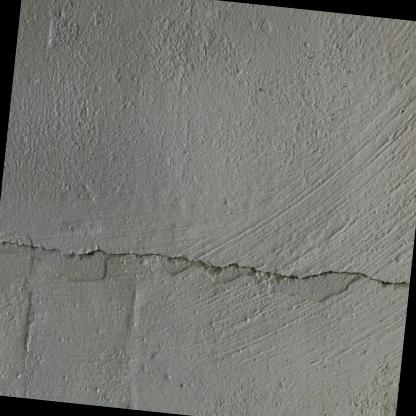crack: (0, 239, 410, 288)
